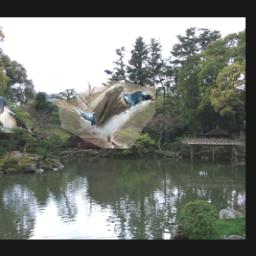Swallow: (55, 81, 156, 148), (0, 96, 31, 133)
